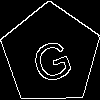G: (25, 29, 75, 86)
